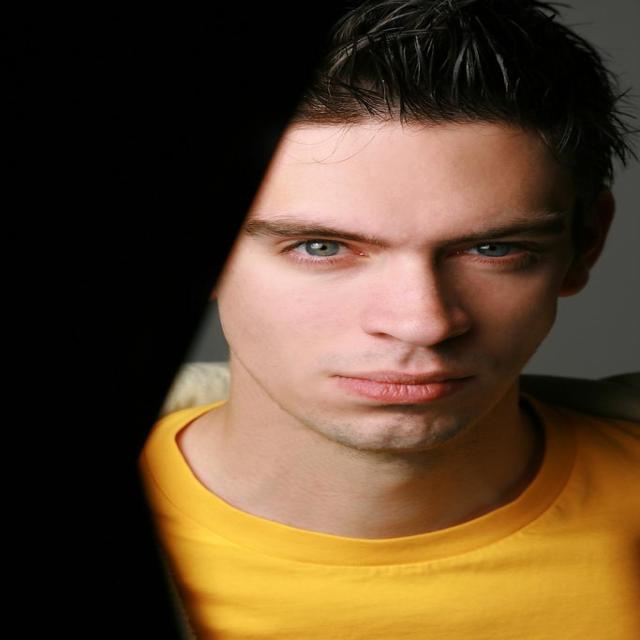no-glass: (274, 236, 523, 266)
